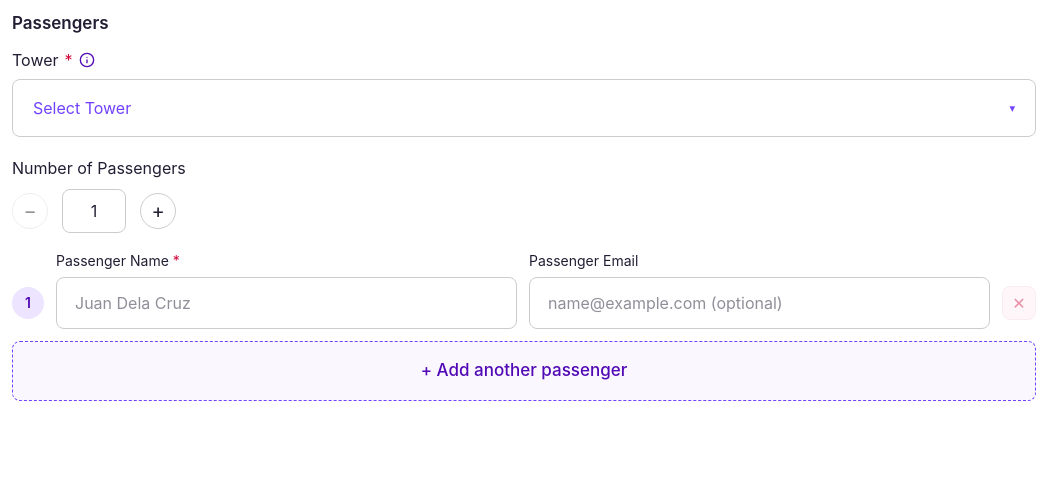
it: PassengerList / PassengerRow › suggests past names on focus and fills the row on pick
Focus the dropdown labelled "Passenger Name *": x=286, y=303 [56,277,517,329]
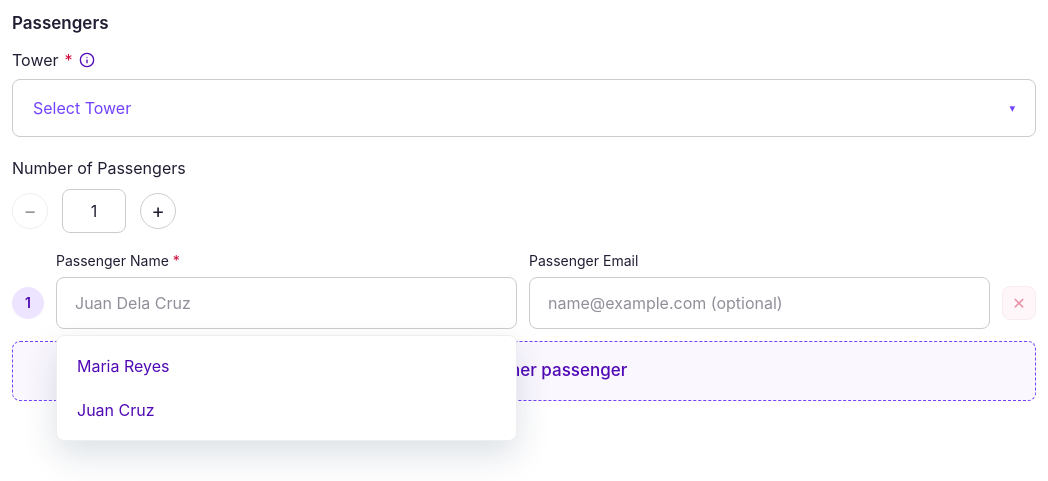
Now the option "Maria Reyes" is shown
Click the option "Maria Reyes": x=123, y=366 [57,344,516,388]
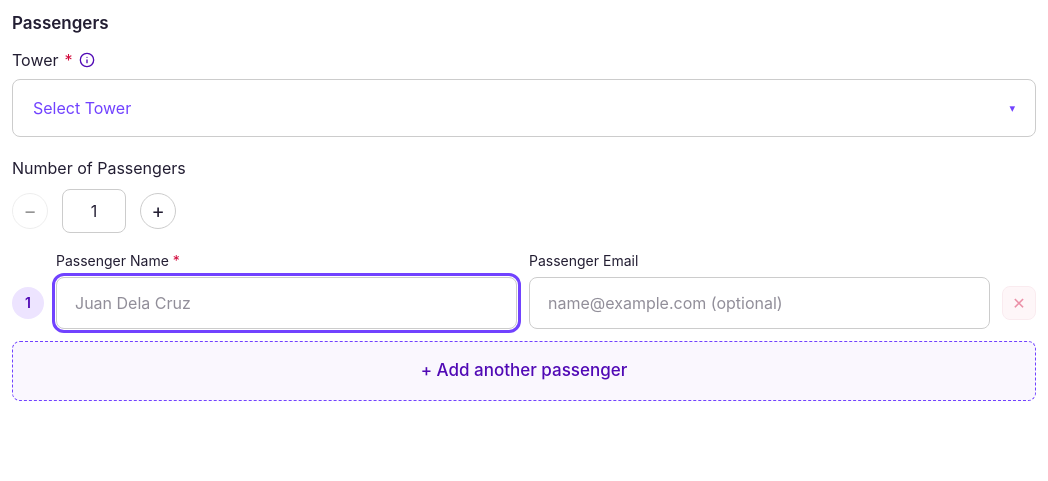
Now the list is gone
